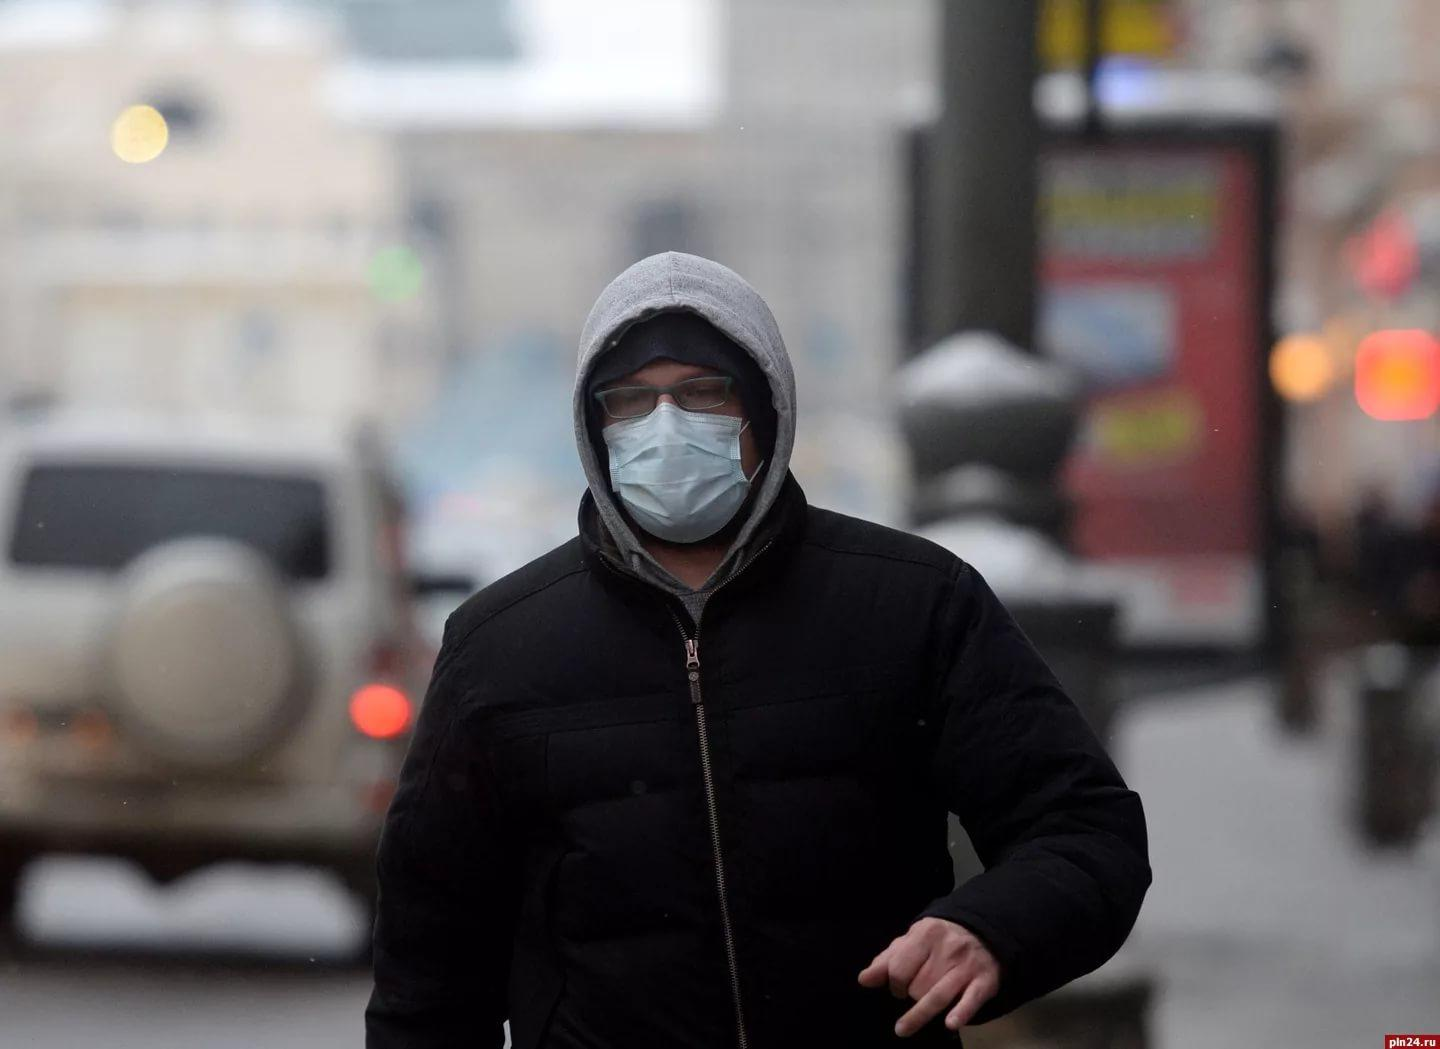mask: (594, 332, 770, 544)
